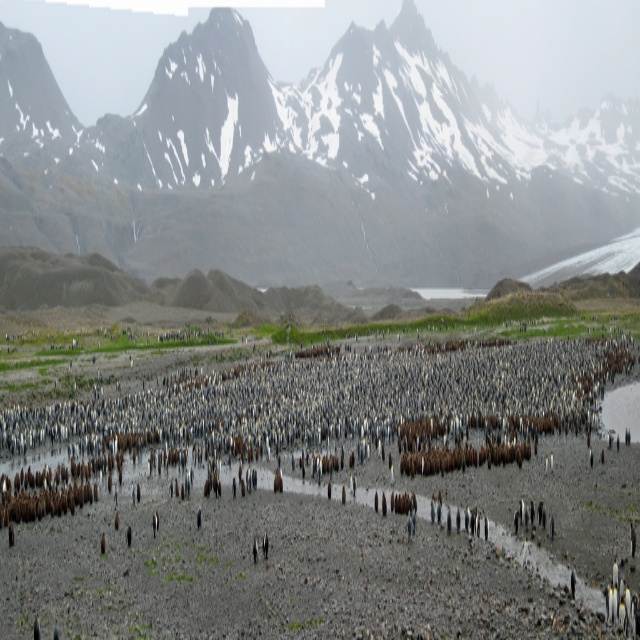Penguin: (0, 339, 639, 549), (603, 558, 640, 639), (432, 488, 490, 537), (511, 495, 555, 542), (263, 530, 271, 558), (630, 524, 635, 566), (570, 566, 577, 594), (252, 535, 258, 563), (34, 616, 41, 639), (194, 510, 203, 526), (53, 623, 57, 637)
